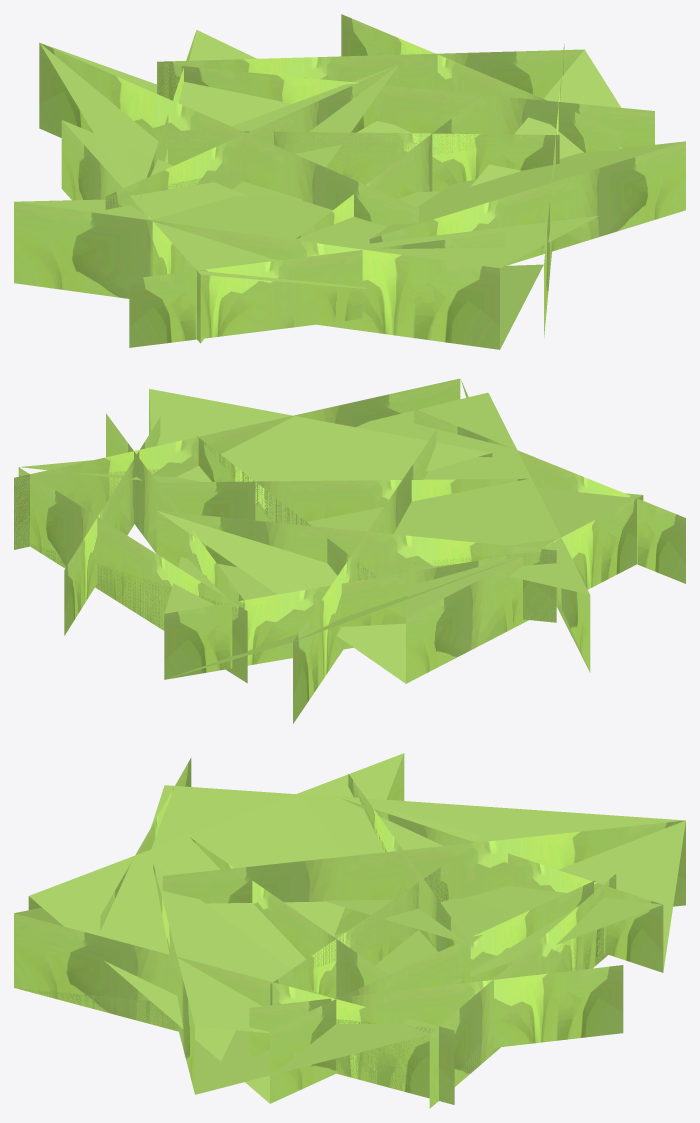
File: SM_Env_Grass_Short_Clump_03.glb
3 renders of one model, top to bottom at view 1: azimuth 30°, elevation 25°; view 2: azimuth 150°, elevation 25°; view 3: azimuth 270°, elevation 25°, orthographic. The views are drawn at different scales.
Visible parts, largest first — view 1: SM_Env_Grass_Short_Clump_03; view 2: SM_Env_Grass_Short_Clump_03; view 3: SM_Env_Grass_Short_Clump_03.
Part boxes in pixels (<box>): SM_Env_Grass_Short_Clump_03: <box>14,14,685,349</box>; SM_Env_Grass_Short_Clump_03: <box>14,378,685,723</box>; SM_Env_Grass_Short_Clump_03: <box>14,753,685,1108</box>.
Size of the model in its own units: 1.72 by 0.2684 by 1.73.
Materials: 1 (1 with a texture image).
